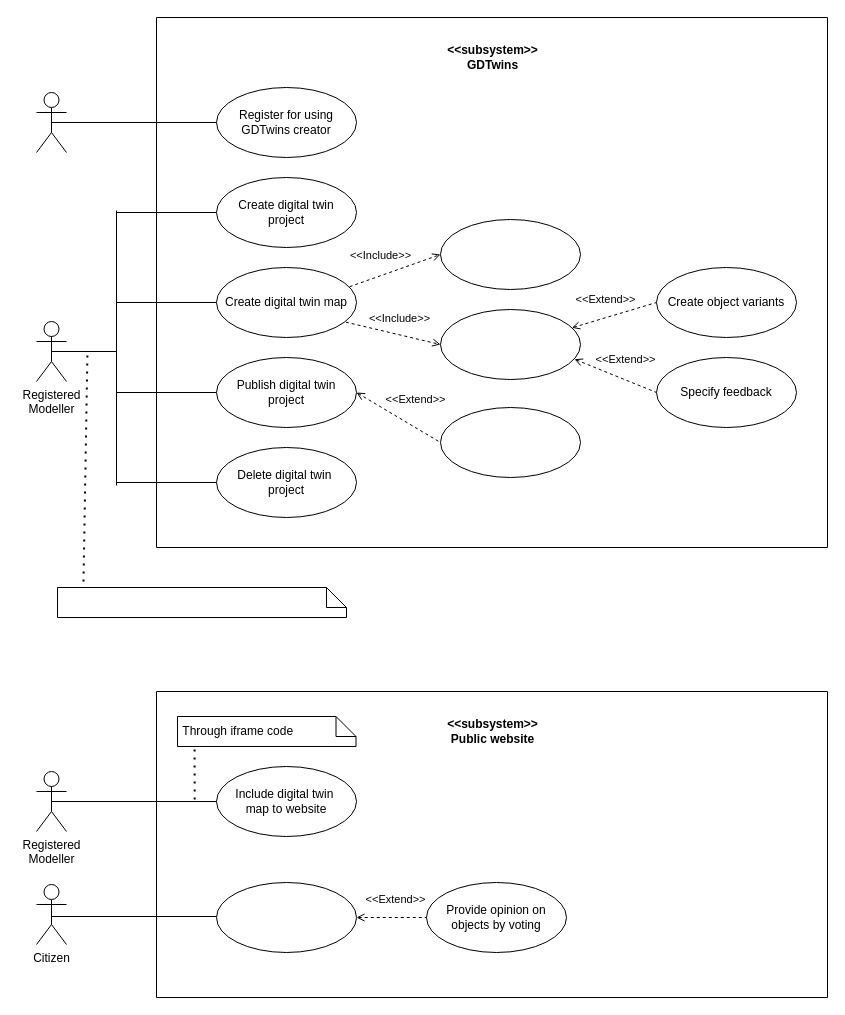
This 845x1015 diagram has some shape labels left out. Each missing label, with the box of its shape:
Add base map: (440, 218, 580, 290)
Add object to map: (440, 308, 580, 380)
Check citizen feedback report: (440, 406, 580, 478)
Unregistered Modeller: (36, 92, 66, 152)
View digital twin map: (216, 882, 356, 952)
{Registered User must be logged}: (56, 586, 346, 618)
